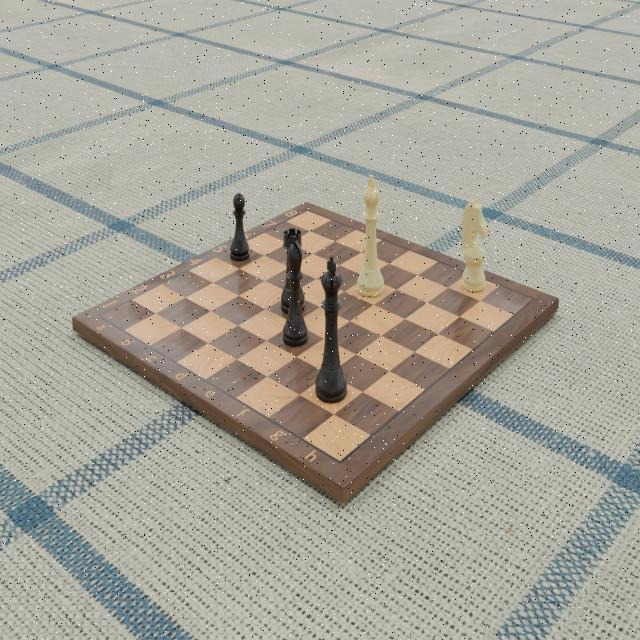black-bishop: (282, 231, 310, 350)
black-king: (315, 253, 349, 406)
black-pawn: (226, 187, 253, 263)
black-rook: (278, 225, 307, 317)
white-king: (354, 172, 386, 300)
white-knight: (460, 196, 488, 295)
